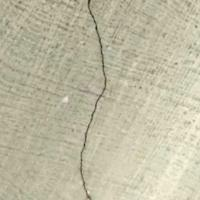crack: (75, 0, 113, 199)
